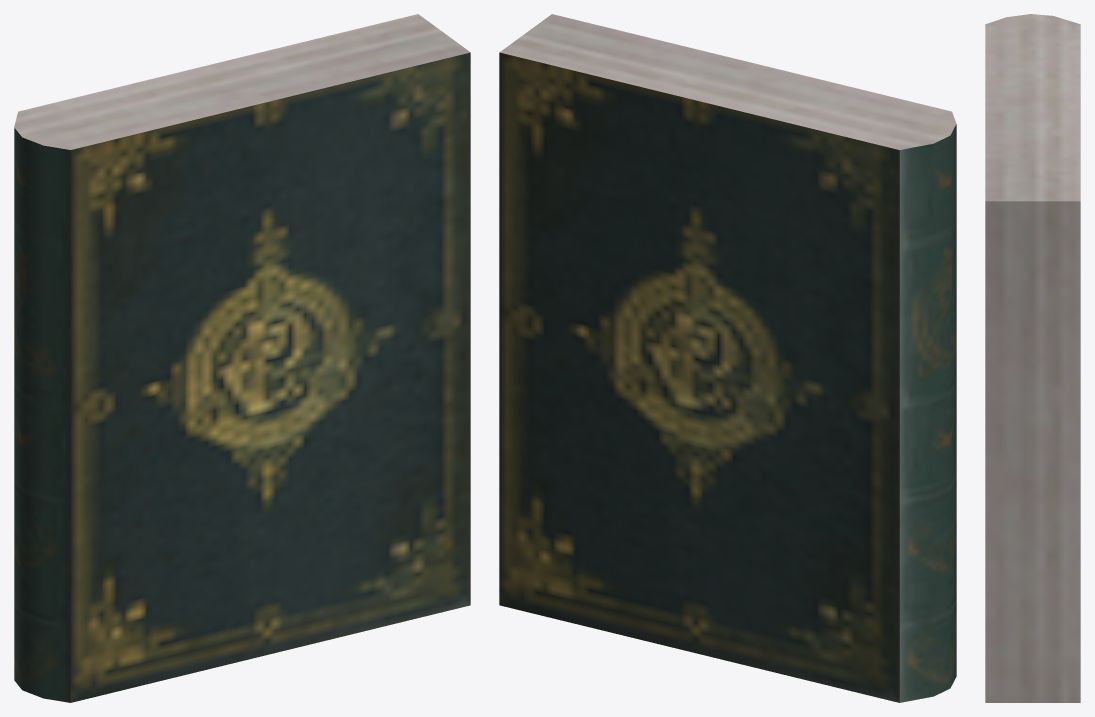
The model's file is ExportLibraryBookFull_C.FBX.
3 views of the same model, side by side, from view 1: azimuth 30°, elevation 25°; view 2: azimuth 150°, elevation 25°; view 3: azimuth 270°, elevation 25° (orthographic). The views are drawn at different scales.
Parts seen in each view (by area): view 1: lib_books_full_B; view 2: lib_books_full_B; view 3: lib_books_full_B.
Boxes of the visible parts, left/top/right/bottom form: lib_books_full_B: left=14, top=14, right=470, bottom=702; lib_books_full_B: left=499, top=14, right=956, bottom=702; lib_books_full_B: left=985, top=14, right=1080, bottom=702.
Bounding box in the file's own units: 14.22 × 3.06 × 17.75.
